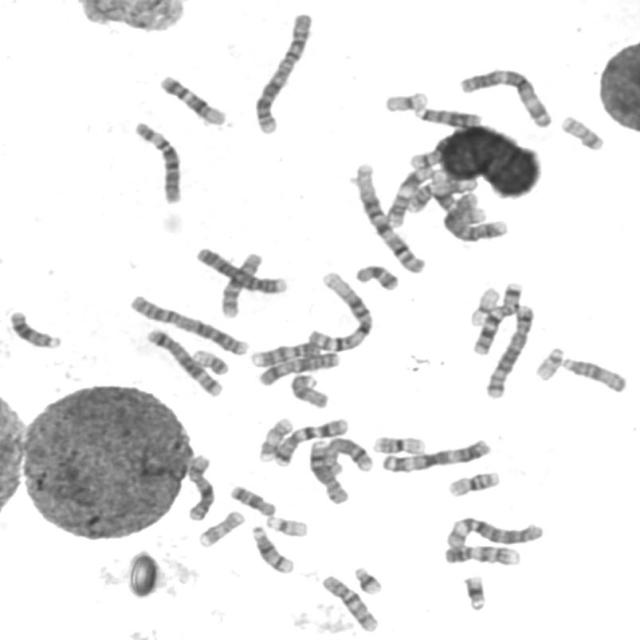A1: (351, 160, 428, 275), (303, 267, 376, 354)
A2: (250, 8, 316, 136), (126, 291, 251, 358)
A3: (455, 64, 556, 129), (379, 435, 494, 474)
B4: (193, 244, 289, 296), (437, 191, 511, 243)
B5: (142, 324, 225, 399), (482, 301, 536, 400)
C10: (319, 570, 382, 634), (217, 248, 264, 320)
C11: (402, 173, 483, 216), (384, 162, 436, 228)
C12: (156, 71, 229, 126), (429, 168, 488, 225)
C6: (130, 117, 186, 205), (442, 514, 547, 550)
C7: (469, 277, 526, 356), (268, 415, 352, 467)
C8: (306, 434, 352, 506), (321, 434, 375, 474)
C9: (248, 338, 324, 369), (440, 541, 524, 568)
D13: (6, 306, 64, 350), (410, 102, 484, 128)
D14: (248, 522, 297, 575), (408, 133, 454, 170)
D15: (558, 352, 630, 394), (286, 370, 332, 409)
E16: (445, 468, 502, 498), (369, 432, 428, 456)
E17: (194, 506, 247, 549), (255, 413, 296, 464)
E18: (226, 481, 278, 517), (352, 261, 402, 292)
F19: (466, 283, 502, 327), (381, 88, 430, 114)
F20: (557, 111, 607, 152), (190, 346, 231, 376)
G21: (350, 562, 386, 597), (460, 571, 489, 612)
G22: (532, 343, 568, 382), (262, 512, 311, 539)
X: (254, 348, 342, 388), (182, 450, 218, 522)
